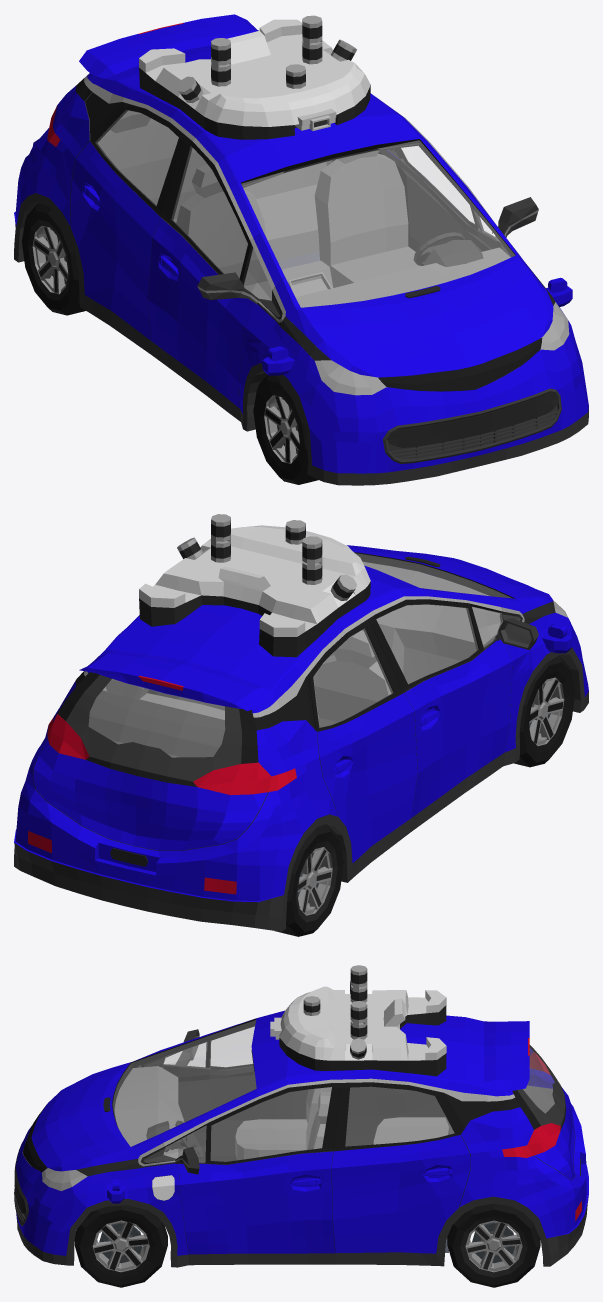
The model's file is self_driving_cruise_car.glb.
3 views of the same model, one above another, from view 1: azimuth 30°, elevation 25°; view 2: azimuth 150°, elevation 25°; view 3: azimuth 270°, elevation 25° (orthographic). The views are drawn at different scales.
Visible parts, largest first — view 1: m2; view 2: m2; view 3: m2.
Part boxes in pixels (x1=…): m2: x1=14, y1=14, x2=588, y2=485; m2: x1=14, y1=514, x2=588, y2=936; m2: x1=14, y1=965, x2=588, y2=1287.
Size of the model in its own units: 2.18 by 1.92 by 4.01.
Materials: 3 (1 with a texture image).
